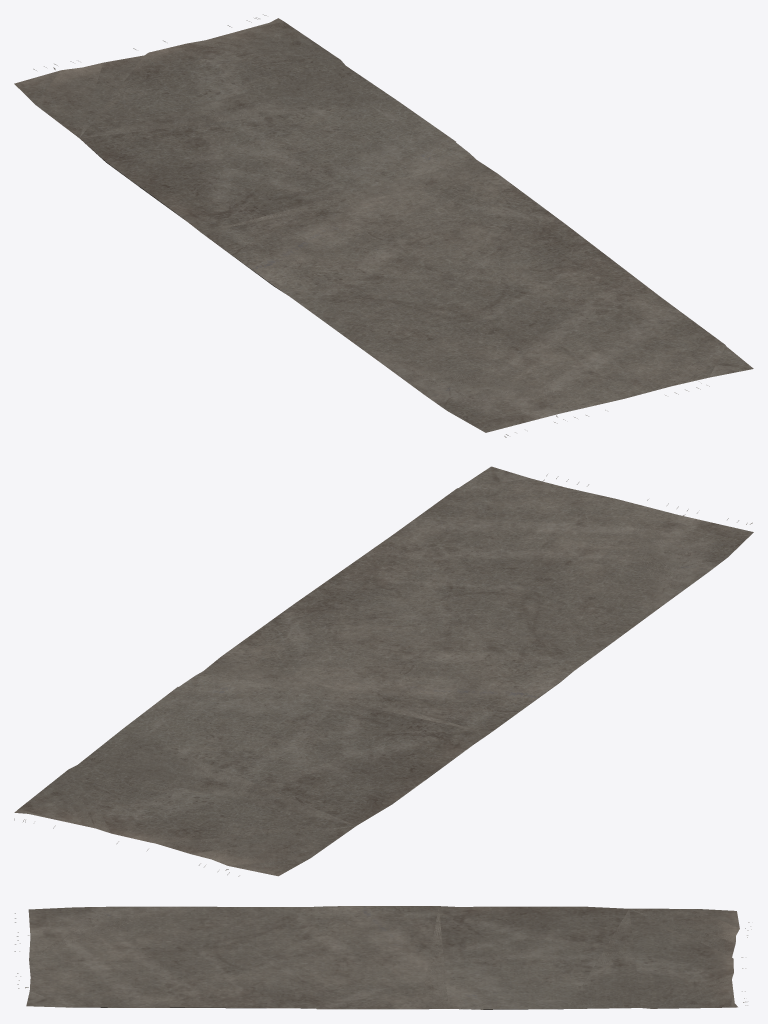
File: SM_Long_Rug.fbx
The picture shows the model from 3 angles, top to bottom: view 1: azimuth 30°, elevation 25°; view 2: azimuth 150°, elevation 25°; view 3: azimuth 270°, elevation 25°; orthographic projection. The views are drawn at different scales.
Visible parts, largest first — view 1: SM_Long_Rug_LOD0; view 2: SM_Long_Rug_LOD0; view 3: SM_Long_Rug_LOD0.
Boxes of the visible parts, x1,y1,x2,y2 form: SM_Long_Rug_LOD0: [14, 14, 753, 437]; SM_Long_Rug_LOD0: [14, 466, 753, 876]; SM_Long_Rug_LOD0: [14, 906, 751, 1009].
Bounding box in the file's own units: 207 × 627 × 1.37.
